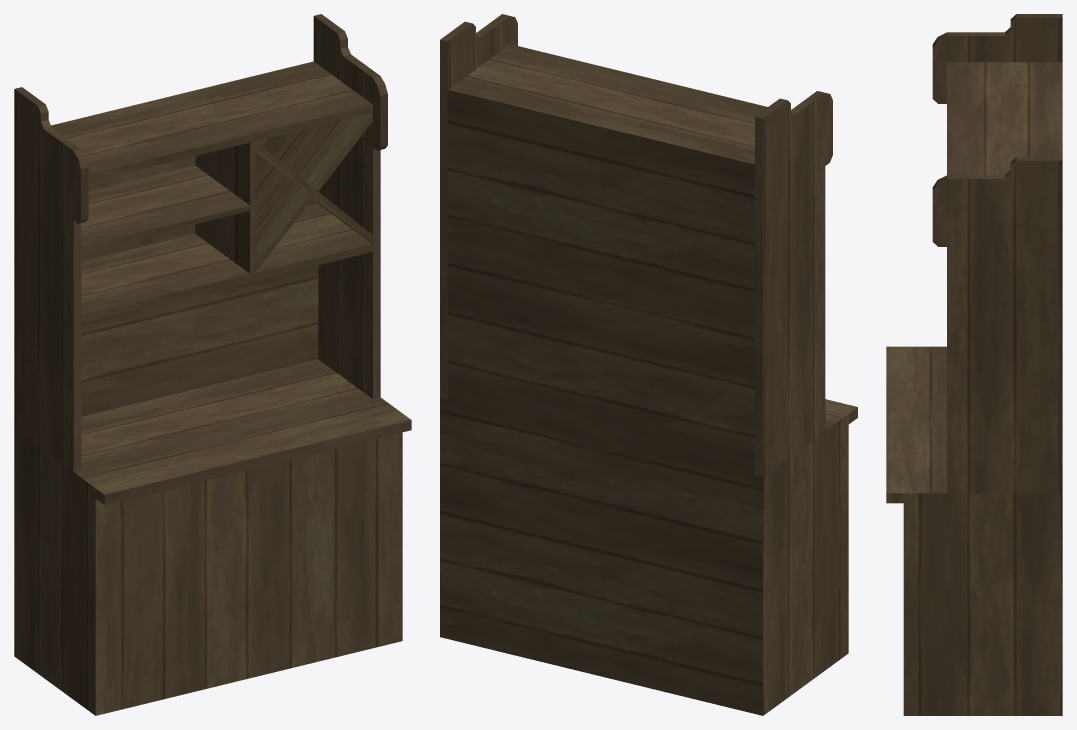
File: shelf01.glb
3 views of the same model, side by side, from view 1: azimuth 30°, elevation 25°; view 2: azimuth 150°, elevation 25°; view 3: azimuth 270°, elevation 25° (orthographic). The views are drawn at different scales.
Visible parts, largest first — view 1: shelf01; view 2: shelf01; view 3: shelf01.
Part boxes in pixels (x1=…): shelf01: x1=14, y1=14, x2=411, y2=715; shelf01: x1=440, y1=14, x2=857, y2=715; shelf01: x1=886, y1=14, x2=1062, y2=715.
Bounding box in the file's own units: 1.2 × 2.12 × 0.61.
1 material, 1 textured.
